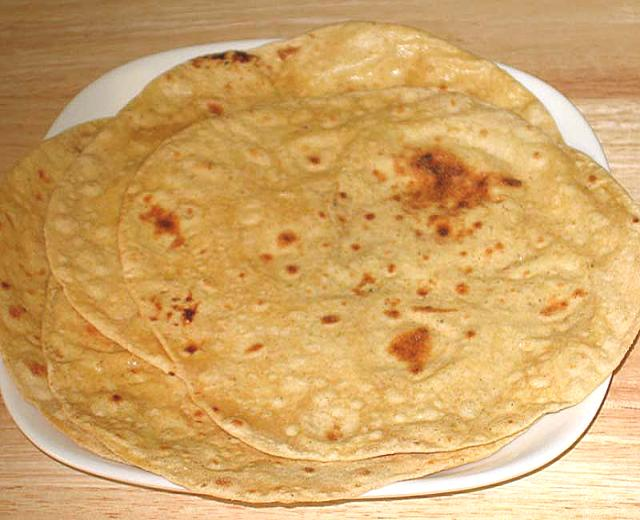chapati: (0, 22, 639, 503)
